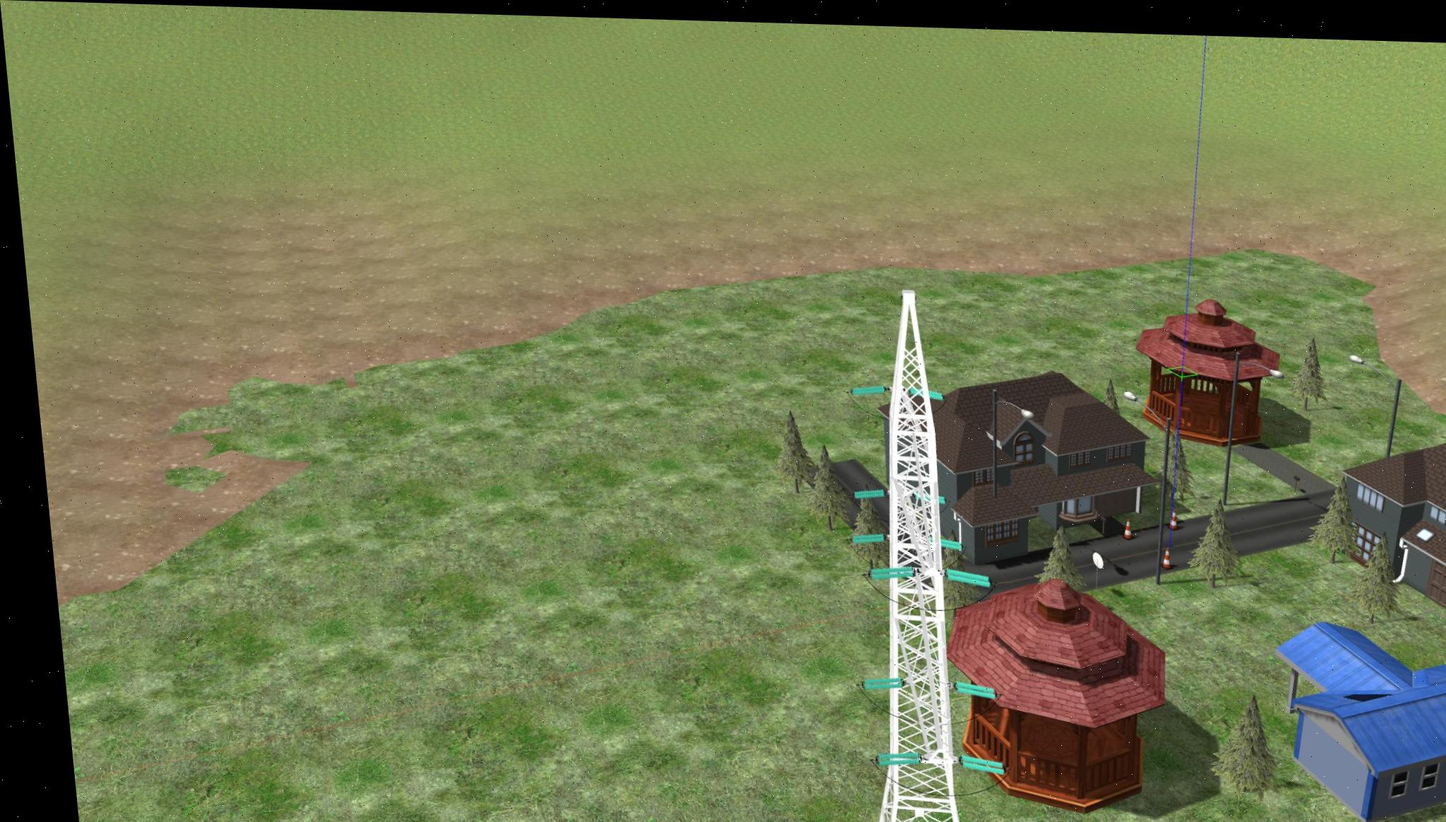tower: (824, 285, 978, 822)
